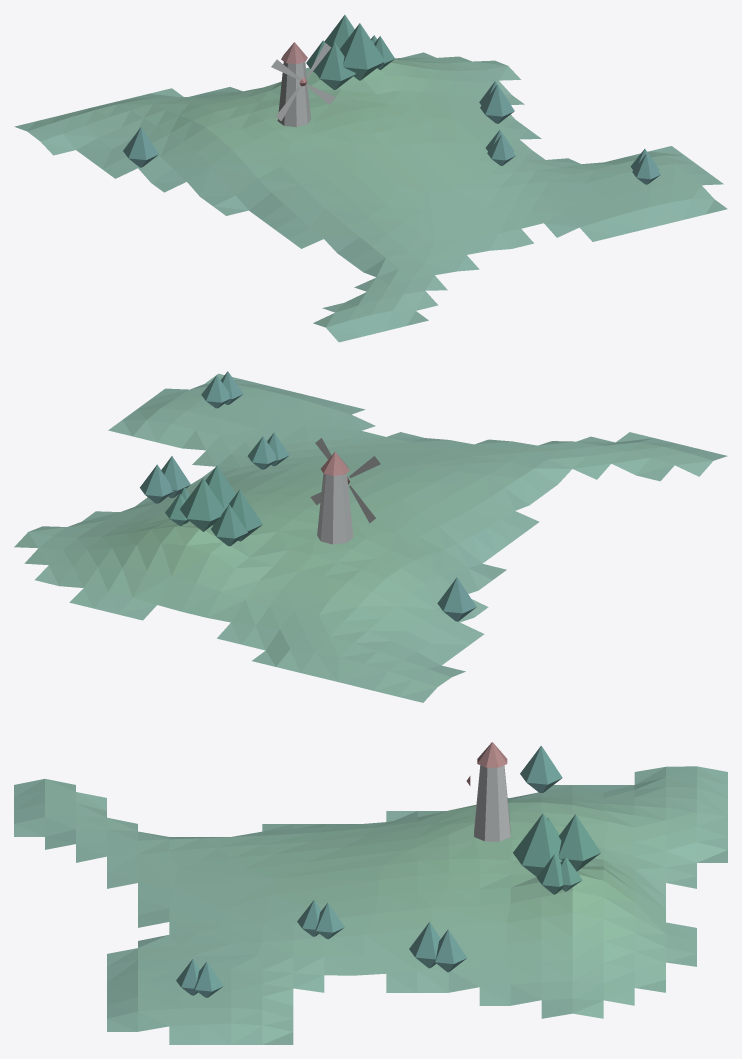
File: far_meadow_impostor.glb
3 renders of one model, top to bottom at view 1: azimuth 30°, elevation 25°; view 2: azimuth 150°, elevation 25°; view 3: azimuth 270°, elevation 25°, orthographic. The views are drawn at different scales.
Visible parts, largest first — view 1: far_meadow_impostor; view 2: far_meadow_impostor; view 3: far_meadow_impostor.
Boxes of the visible parts, <box> form: far_meadow_impostor: <box>14,15,727,342</box>; far_meadow_impostor: <box>14,371,727,702</box>; far_meadow_impostor: <box>14,742,727,1044</box>.
Bounding box in the file's own units: 96 × 22.15 × 106.
